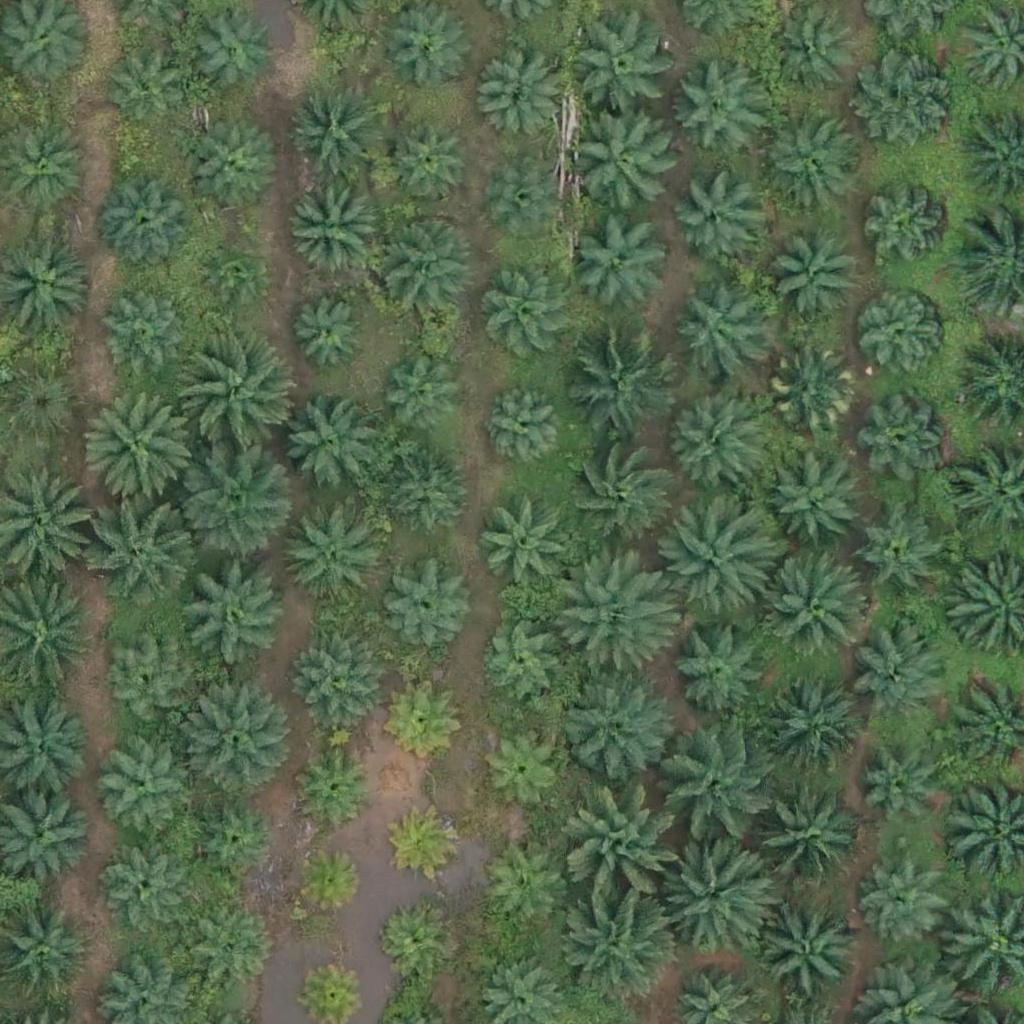Kelapa_Sawit: (748, 785, 861, 899), (565, 108, 678, 222), (665, 731, 778, 844), (564, 889, 677, 1002), (177, 447, 290, 560), (178, 557, 291, 670), (179, 680, 292, 793), (88, 493, 201, 606), (84, 389, 197, 502), (664, 508, 776, 622), (570, 793, 682, 907), (565, 332, 677, 446), (184, 337, 296, 451), (761, 554, 873, 667), (660, 836, 772, 949), (557, 667, 669, 780), (557, 552, 669, 665), (561, 439, 673, 552), (760, 901, 860, 1002), (766, 452, 866, 553), (665, 613, 765, 714), (577, 213, 677, 314), (476, 497, 576, 598), (371, 213, 471, 314), (280, 501, 380, 602), (98, 173, 198, 274), (287, 81, 387, 182), (577, 16, 677, 117), (761, 111, 861, 212), (859, 48, 959, 149), (854, 623, 954, 723), (761, 679, 861, 779), (660, 395, 760, 495), (285, 180, 385, 280), (279, 396, 379, 496), (668, 54, 768, 154), (478, 383, 566, 472), (189, 795, 277, 883), (189, 913, 277, 1001), (670, 173, 758, 261), (671, 289, 759, 377), (486, 273, 574, 361), (380, 346, 468, 434), (475, 723, 563, 811), (480, 846, 568, 934), (99, 751, 187, 839), (100, 843, 188, 931), (101, 294, 189, 382), (186, 10, 274, 98), (861, 187, 948, 275), (858, 296, 945, 384), (861, 395, 948, 483), (858, 512, 945, 600), (858, 756, 945, 844), (863, 861, 950, 949), (768, 348, 855, 436), (767, 233, 854, 321), (383, 451, 470, 539), (478, 621, 565, 709), (293, 631, 380, 719), (380, 562, 467, 650), (105, 640, 192, 728), (103, 46, 190, 134), (193, 126, 280, 214), (386, 118, 473, 206), (476, 53, 563, 141), (766, 9, 853, 97), (290, 296, 365, 372), (374, 901, 449, 977), (490, 163, 565, 239), (389, 805, 464, 881), (299, 747, 374, 822), (291, 844, 366, 919), (389, 683, 464, 758), (201, 240, 263, 303)
